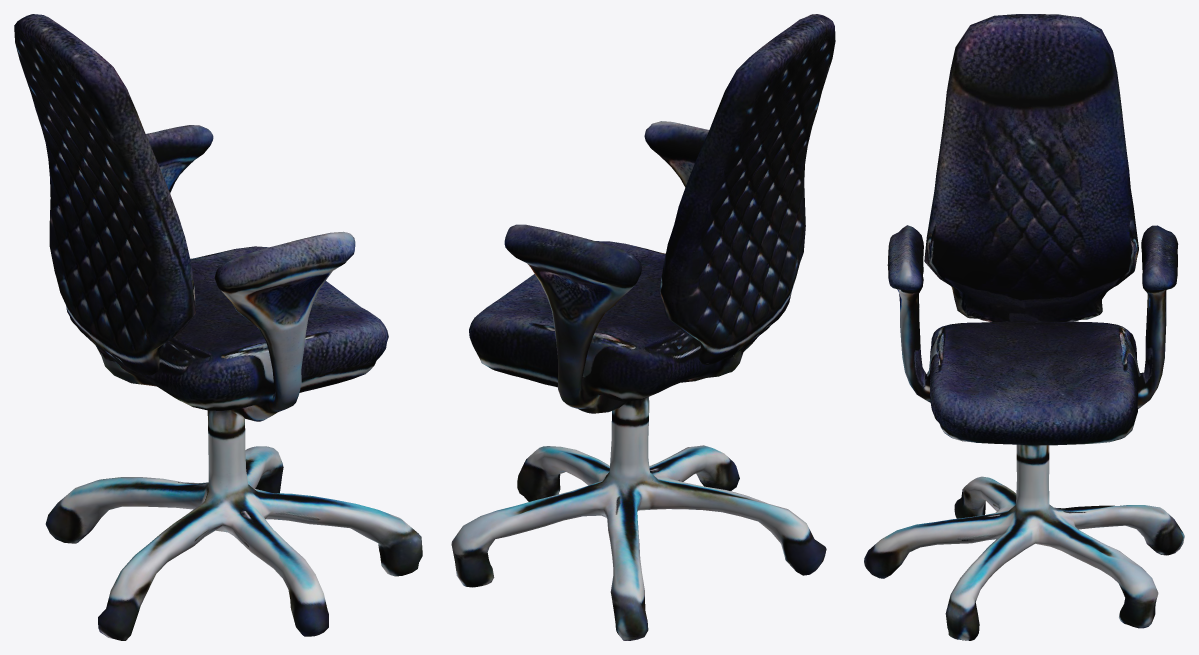
The model's file is 6be20f916b76_a_Comfort_fabric_Of.fbx.
3 views of the same model, side by side, from view 1: azimuth 30°, elevation 25°; view 2: azimuth 150°, elevation 25°; view 3: azimuth 270°, elevation 25° (orthographic). The views are drawn at different scales.
Visible parts, largest first — view 1: mesh; view 2: mesh; view 3: mesh.
Boxes of the visible parts, x1=… form: mesh: x1=14, y1=14, x2=422, y2=640; mesh: x1=451, y1=14, x2=835, y2=640; mesh: x1=864, y1=14, x2=1184, y2=640.
Size of the model in its own units: 59.43 by 99.98 by 58.01.
